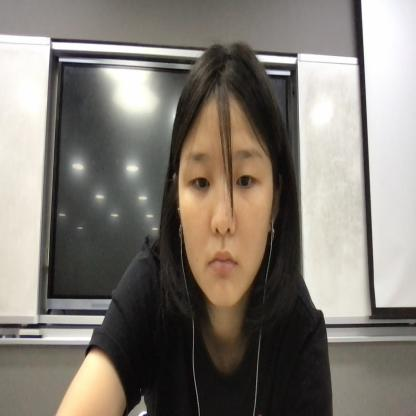happy: (167, 66, 285, 311)
